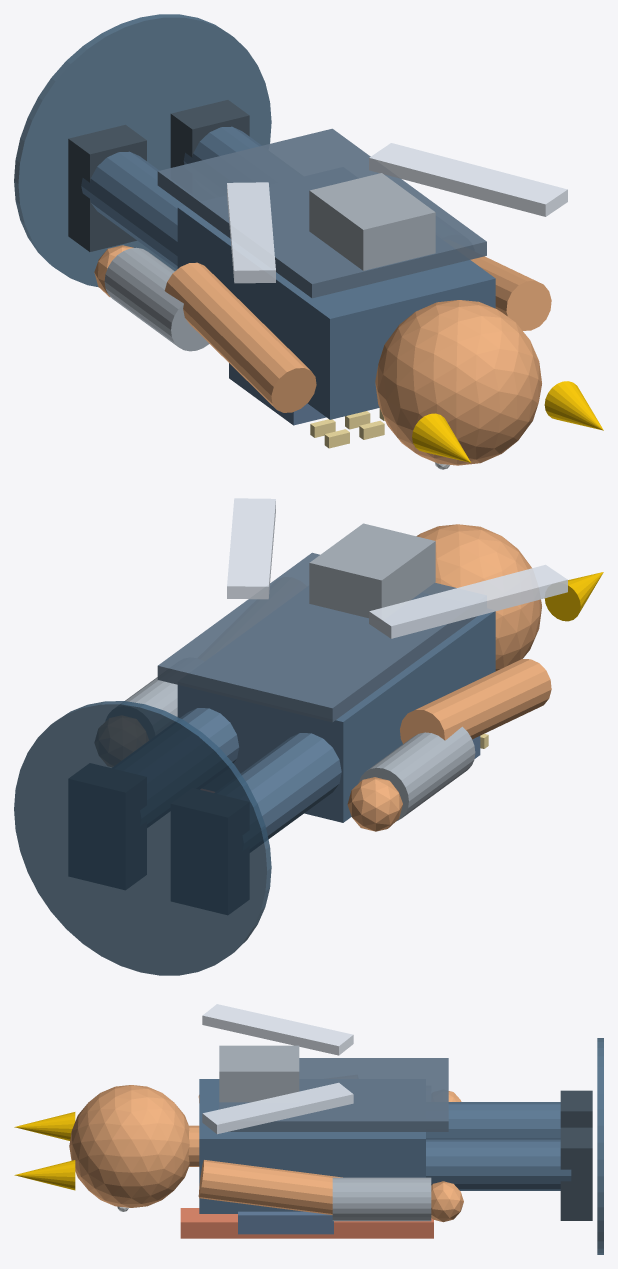
The model's file is SW_NPC_043_thane_rhythmfall.glb.
3 renders of one model, top to bottom at view 1: azimuth 30°, elevation 25°; view 2: azimuth 150°, elevation 25°; view 3: azimuth 270°, elevation 25°, orthographic. The views are drawn at different scales.
Parts seen in each view (by area): view 1: round_base_plate, head, torso_uniform, storm_cloak, left_upper_arm, wingpack_core, left_leg, right_wing_rig, left_forearm_gauntlet, left_boot, left_wing_rig, right_upper_arm (+5 smaller); view 2: round_base_plate, storm_cloak, torso_uniform, wingpack_core, head, left_upper_arm, left_wing_rig, left_leg, left_forearm_gauntlet, right_wing_rig, left_hand, right_leg (+2 smaller); view 3: head, torso_uniform, storm_cloak, right_leg, right_upper_arm, right_forearm_gauntlet, left_leg, wingpack_core, rank_sash, left_wing_rig, right_wing_rig, right_boot (+7 smaller).
Part boxes in pixels (x1,y1,x2,y2): round_base_plate: (14, 14, 271, 287); head: (375, 300, 541, 465); torso_uniform: (177, 205, 495, 419); storm_cloak: (157, 128, 486, 298); left_upper_arm: (164, 262, 316, 412); wingpack_core: (309, 173, 435, 270); left_leg: (81, 151, 184, 269); right_wing_rig: (369, 143, 567, 216); left_forearm_gauntlet: (104, 247, 209, 351); left_boot: (68, 124, 146, 251); left_wing_rig: (227, 182, 275, 283); right_upper_arm: (470, 256, 551, 330); round_base_plate: (14, 701, 271, 975); storm_cloak: (157, 552, 477, 722); torso_uniform: (177, 611, 495, 822); wingpack_core: (309, 523, 435, 618); head: (416, 524, 541, 670); left_upper_arm: (400, 659, 551, 743); left_wing_rig: (369, 564, 567, 638); left_leg: (241, 733, 341, 839); left_forearm_gauntlet: (358, 726, 475, 821); right_wing_rig: (227, 498, 275, 599); left_hand: (347, 777, 402, 831); right_leg: (180, 708, 239, 763); head: (69, 1085, 189, 1207); torso_uniform: (199, 1079, 425, 1213); storm_cloak: (219, 1058, 448, 1131); right_leg: (426, 1139, 571, 1190); right_upper_arm: (198, 1160, 342, 1215); right_forearm_gauntlet: (332, 1177, 431, 1221); left_leg: (426, 1102, 560, 1139); wingpack_core: (219, 1045, 299, 1102); rank_sash: (180, 1208, 433, 1238); left_wing_rig: (202, 1004, 353, 1055); right_wing_rig: (202, 1082, 353, 1134); right_boot: (560, 1127, 592, 1220).
Size of the model in its own units: 1.05 by 0.798 by 2.17.
